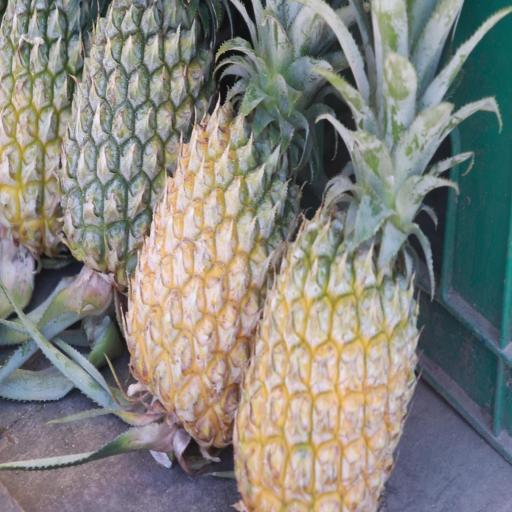------------------------------: (0, 0, 107, 278)
Pineapple - v8 v1: (119, 0, 305, 461), (230, 134, 423, 512)
